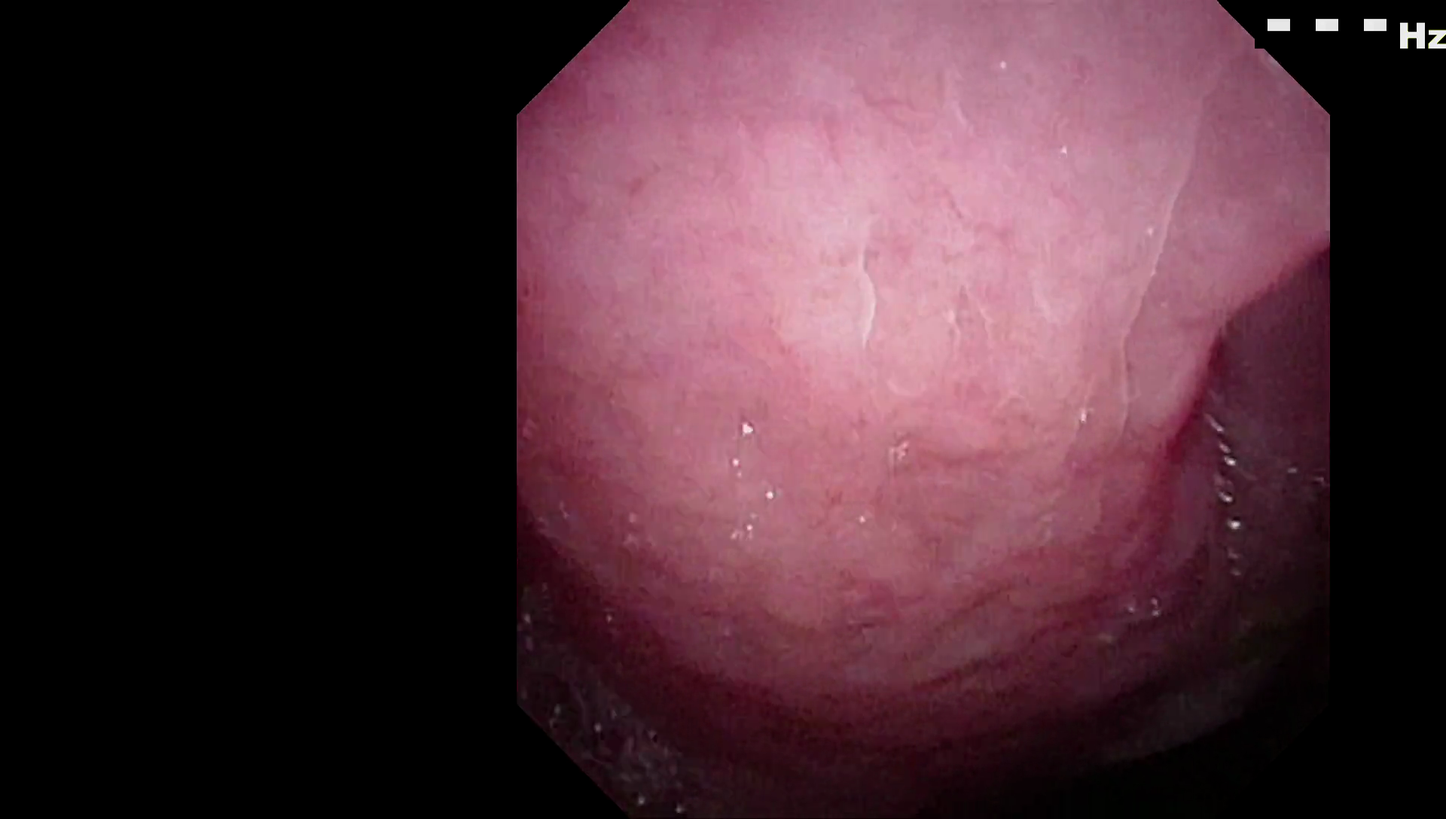close_wall: (557, 84, 1251, 442)
next: (935, 593, 1302, 819)
